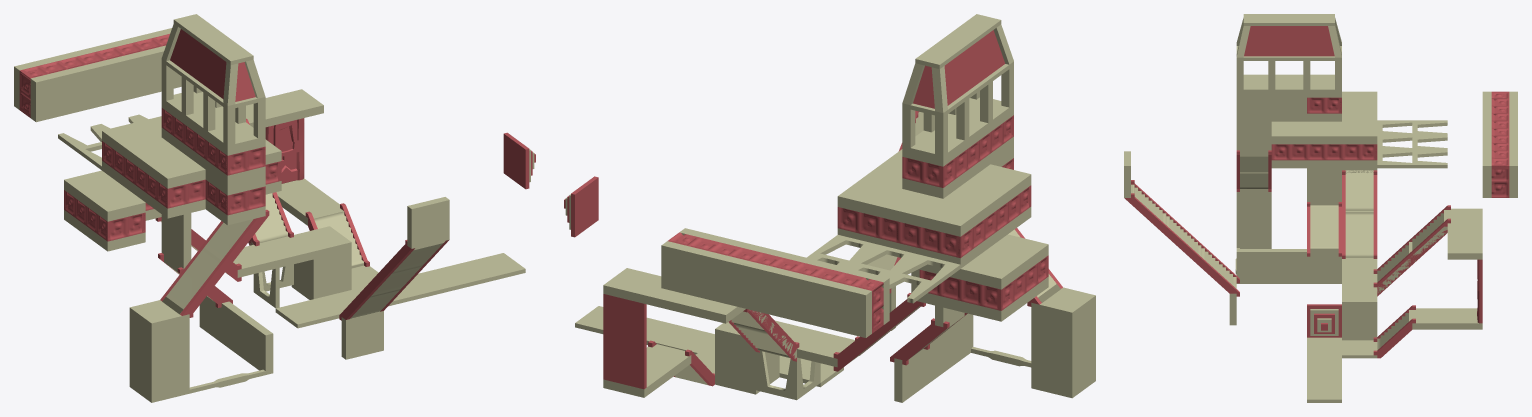
The model's file is relativity_env.fbx.
The picture shows the model from 3 angles, left to right: view 1: azimuth 30°, elevation 25°; view 2: azimuth 150°, elevation 25°; view 3: azimuth 270°, elevation 25°; orthographic projection. The views are drawn at different scales.
Parts seen in each view (by area): view 1: relativity_env; view 2: relativity_env; view 3: relativity_env.
Boxes of the visible parts, x1,y1,x2,y2 form: relativity_env: (14,14,535,402); relativity_env: (564,14,1095,402); relativity_env: (1124,14,1517,402).
Bounding box in the file's own units: 115 × 81 × 112.
1 material, 1 textured.
